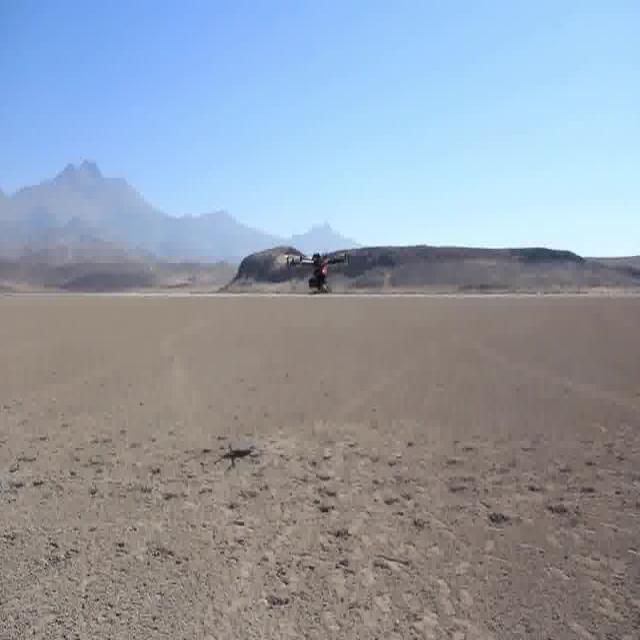drone: (277, 242, 353, 304)
